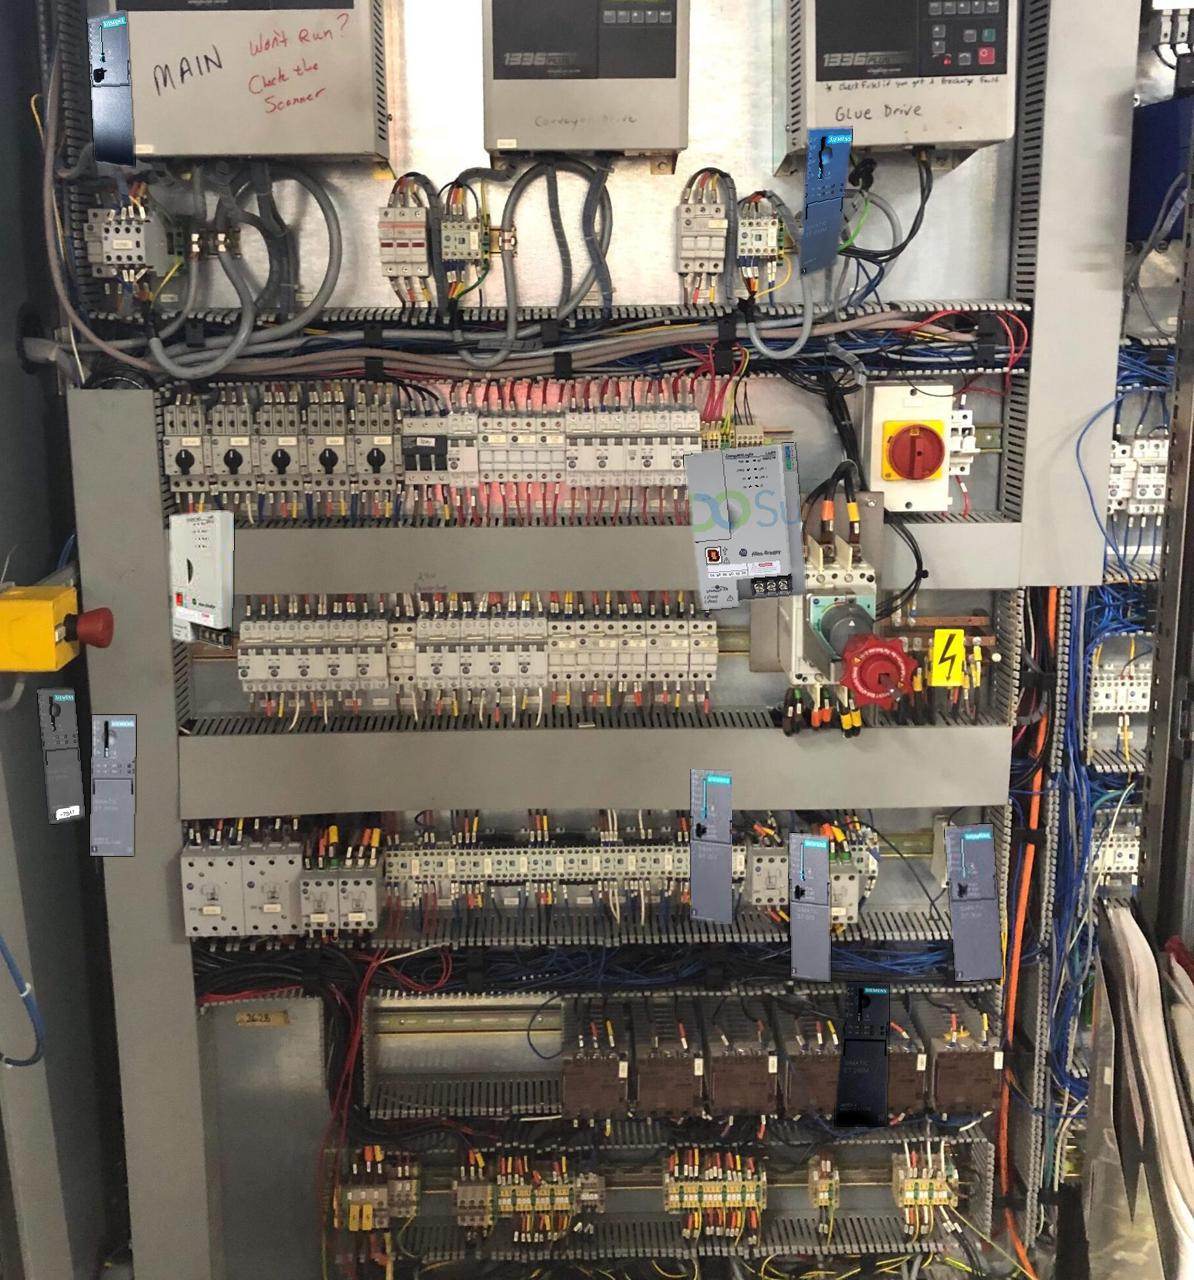AllenBradley: (683, 442, 805, 609), (169, 510, 233, 650)
Siemens: (945, 825, 1002, 980), (88, 10, 134, 166), (690, 768, 731, 923), (789, 834, 830, 980)
